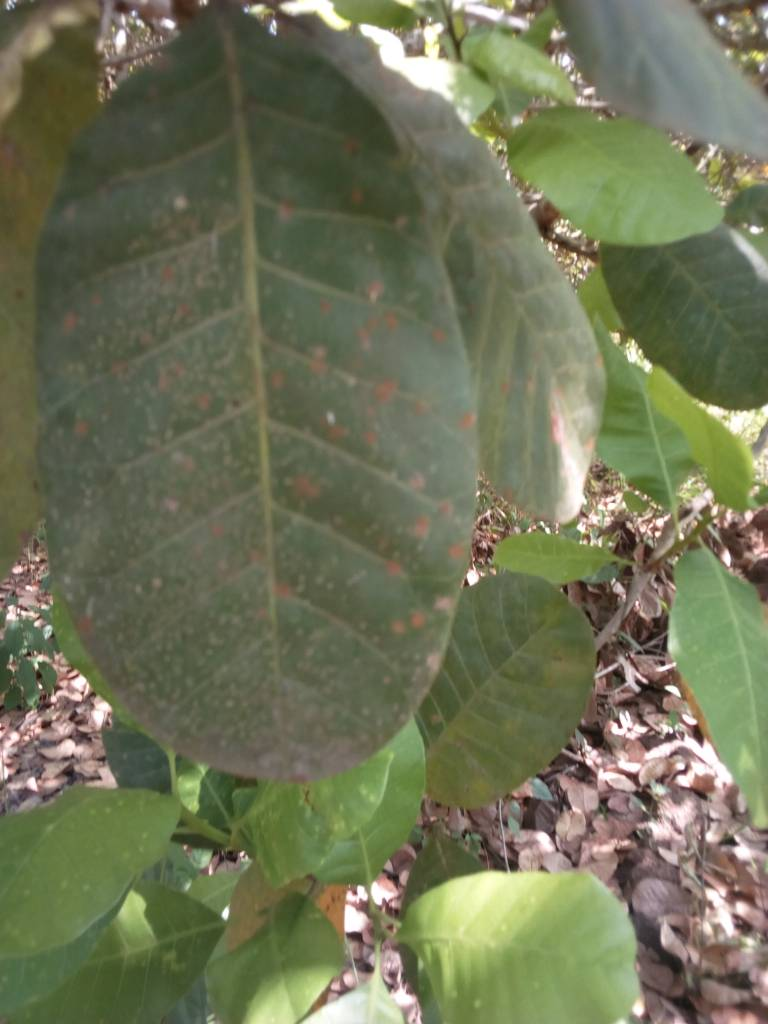Rouille: (42, 42, 501, 776), (371, 1, 621, 524)
